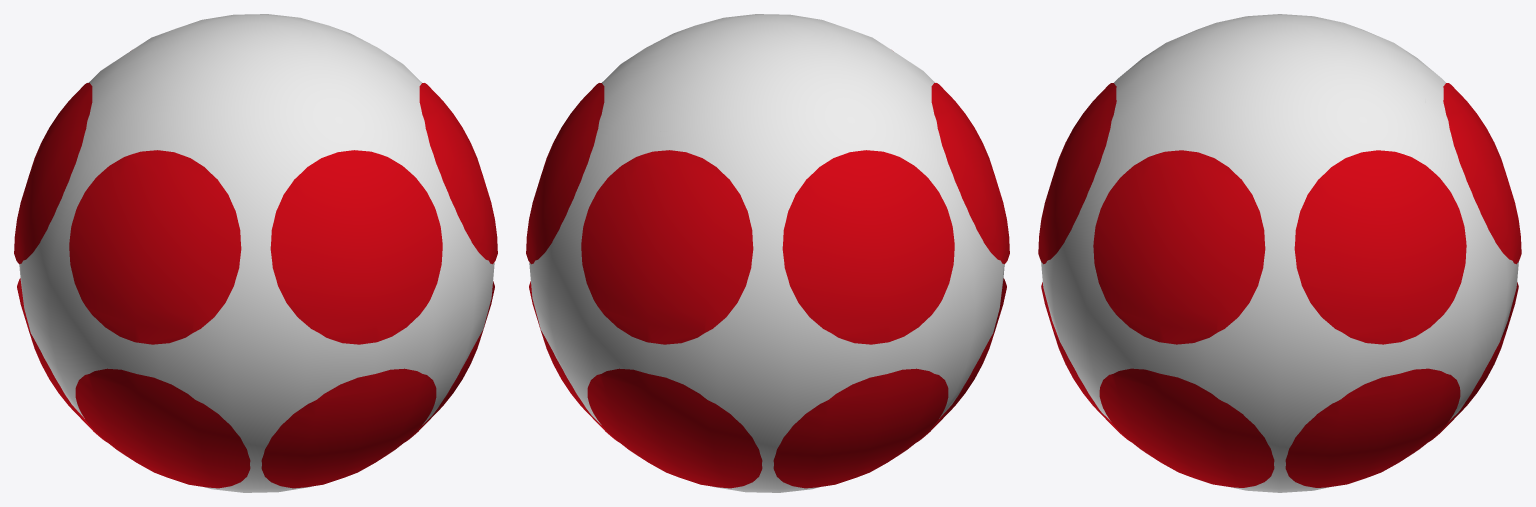
Rendered from kino.fbx.
3 renders of one model, left to right at view 1: azimuth 30°, elevation 25°; view 2: azimuth 150°, elevation 25°; view 3: azimuth 270°, elevation 25°, orthographic.
Visible parts, largest first — view 1: mainclaercover_2, Sphere.003; view 2: mainclaercover_2, Sphere.003; view 3: mainclaercover_2, Sphere.003.
Boxes of the visible parts, <box> form: mainclaercover_2: <box>14,83,497,488</box>; Sphere.003: <box>19,14,494,492</box>; mainclaercover_2: <box>526,83,1009,488</box>; Sphere.003: <box>529,14,1004,492</box>; mainclaercover_2: <box>1038,83,1521,487</box>; Sphere.003: <box>1041,14,1518,492</box>.
Size of the model in its own units: 208 by 208 by 210.
